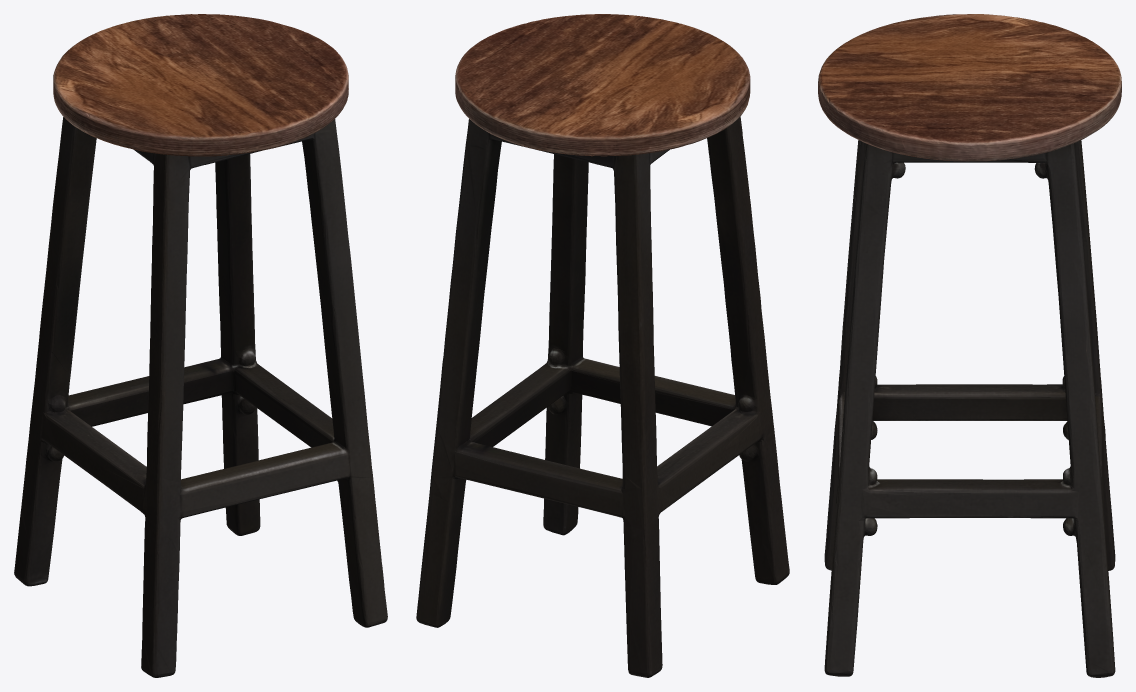
3 views of the same model, side by side, from view 1: azimuth 30°, elevation 25°; view 2: azimuth 150°, elevation 25°; view 3: azimuth 270°, elevation 25° (orthographic). The views are drawn at different scales.
Parts seen in each view (by area): view 1: world; view 2: world; view 3: world.
Part boxes in pixels (x1,y1,x2,y2): world: [14, 14, 387, 677]; world: [416, 14, 789, 677]; world: [818, 14, 1121, 677].
Size of the model in its own units: 0.5109 by 1 by 0.5055.
1 material, 1 textured.
